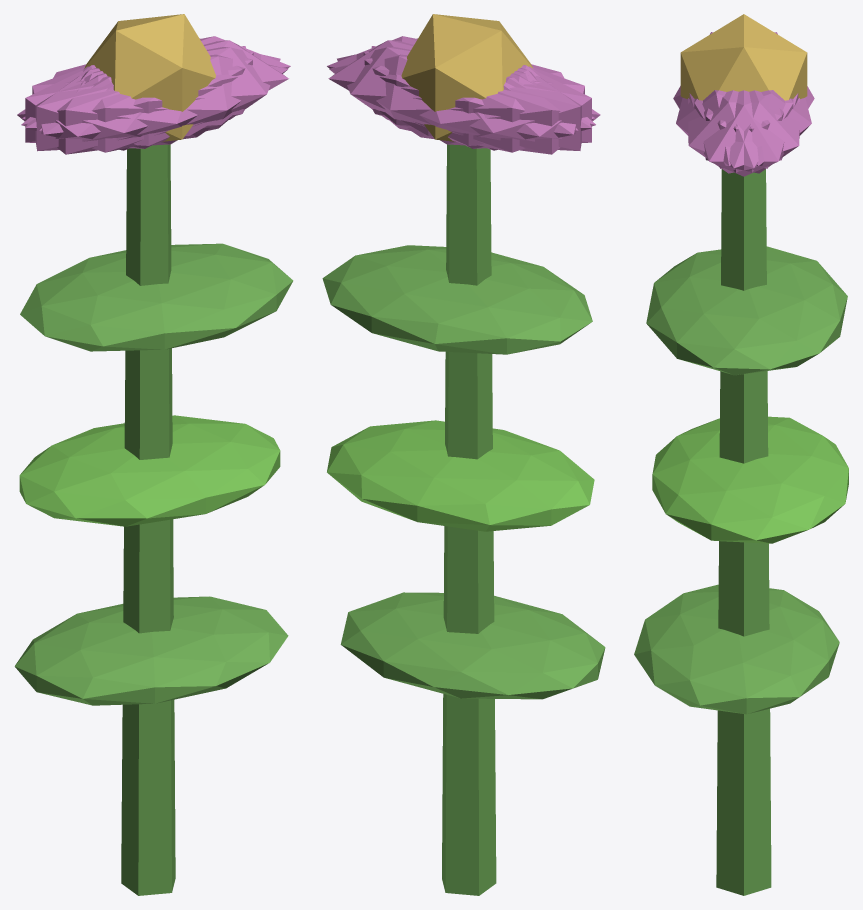
File: barleria-cristata.glb
The picture shows the model from 3 angles, left to right: view 1: azimuth 30°, elevation 25°; view 2: azimuth 150°, elevation 25°; view 3: azimuth 270°, elevation 25°; orthographic projection.
Visible parts, largest first — view 1: stem, leaf0, leaf2, leaf1, center, petal1, petal6, petal2, petal5, petal7, petal0, petal4 (+2 smaller); view 2: stem, leaf1, leaf2, leaf0, center, petal8, petal3, petal7, petal4, petal2, petal0, petal5 (+2 smaller); view 3: stem, leaf2, leaf1, leaf0, center, petal0, petal4, petal5, petal1, petal8.
Part boxes in pixels (x1,y1,x2,y2): stem: [121, 144, 175, 895]; leaf0: [14, 596, 288, 705]; leaf2: [20, 243, 293, 351]; leaf1: [19, 415, 280, 526]; center: [84, 14, 215, 141]; petal1: [21, 54, 287, 152]; petal6: [17, 66, 209, 154]; petal2: [35, 46, 245, 151]; petal5: [39, 47, 280, 145]; petal7: [25, 51, 253, 148]; petal0: [84, 40, 288, 136]; petal4: [22, 36, 290, 128]; stem: [442, 144, 496, 895]; leaf1: [327, 420, 594, 531]; leaf2: [322, 245, 592, 354]; leaf0: [340, 592, 605, 699]; center: [401, 14, 532, 141]; petal8: [329, 54, 595, 152]; petal3: [407, 66, 600, 154]; petal7: [371, 46, 581, 150]; petal4: [337, 47, 578, 145]; petal2: [363, 51, 591, 148]; petal0: [328, 40, 533, 136]; petal5: [327, 36, 594, 128]; stem: [716, 169, 771, 895]; leaf2: [646, 246, 847, 375]; leaf1: [652, 416, 848, 543]; leaf0: [634, 584, 839, 714]; center: [680, 14, 807, 100]; petal0: [689, 90, 798, 176]; petal4: [694, 90, 799, 173]; petal5: [688, 90, 793, 173]; petal1: [676, 90, 783, 165]; petal8: [704, 90, 811, 165].
Size of the model in its own units: 0.1452 by 0.4551 by 0.1039.
